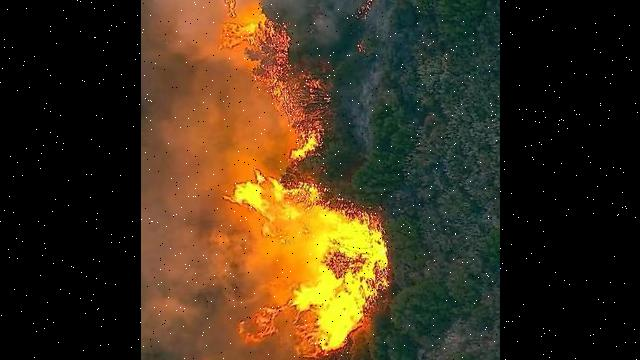fire: (210, 0, 394, 360)
